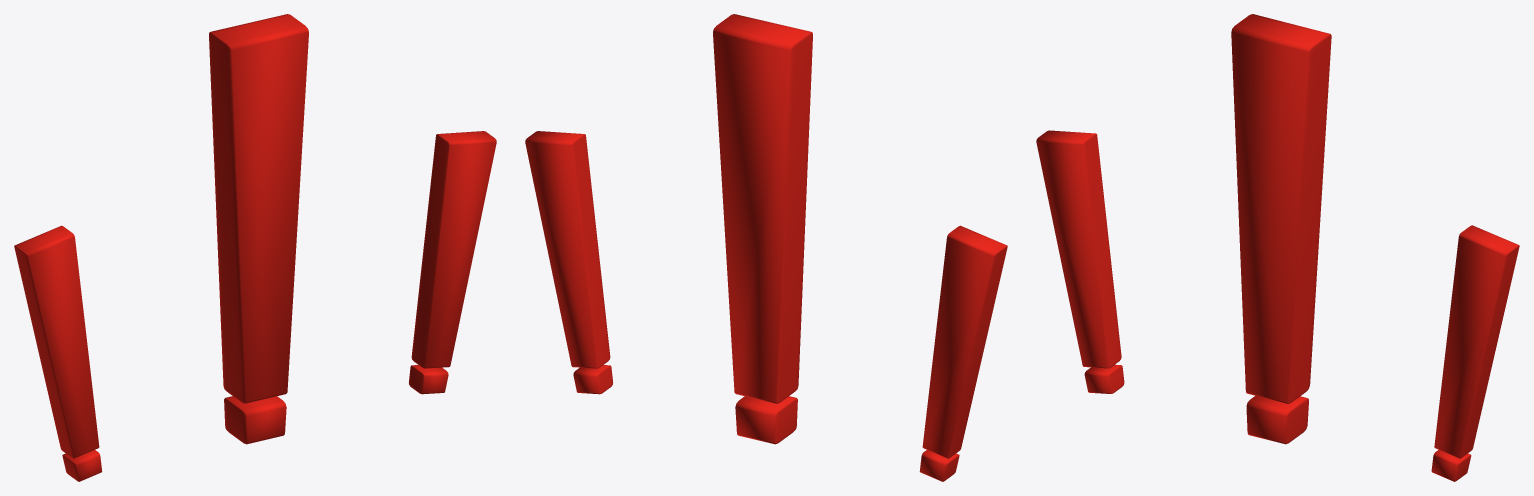
File: aset tanda seru.fbx
The picture shows the model from 3 angles, left to right: view 1: azimuth 30°, elevation 25°; view 2: azimuth 150°, elevation 25°; view 3: azimuth 330°, elevation 25°; orthographic projection.
Visible parts, largest first — view 1: Plane.001, Plane.006, Plane.005; view 2: Plane.001, Plane.006, Plane.005; view 3: Plane.001, Plane.005, Plane.006.
Boxes of the visible parts, x1=… form: Plane.001: x1=209, y1=14, x2=308, y2=444; Plane.006: x1=408, y1=131, x2=496, y2=394; Plane.005: x1=14, y1=225, x2=102, y2=481; Plane.001: x1=713, y1=14, x2=812, y2=444; Plane.006: x1=525, y1=131, x2=613, y2=394; Plane.005: x1=919, y1=225, x2=1007, y2=481; Plane.001: x1=1231, y1=14, x2=1331, y2=444; Plane.005: x1=1036, y1=130, x2=1124, y2=393; Plane.006: x1=1431, y1=225, x2=1519, y2=481.
Size of the model in its own units: 548 by 450 by 46.38.
